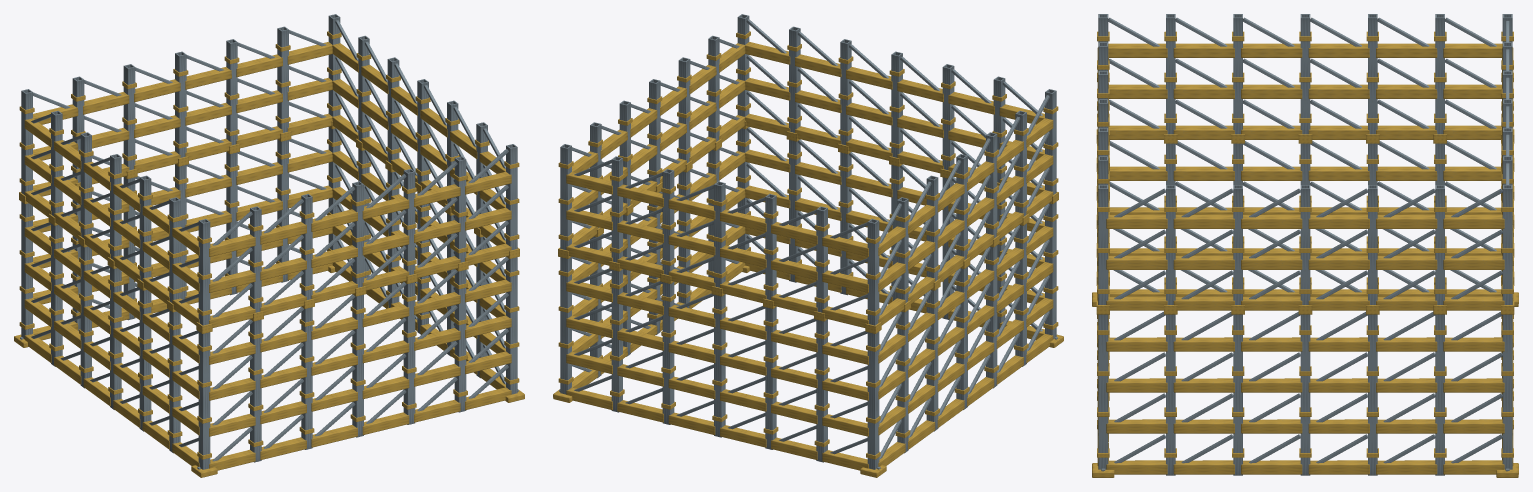
3 views of the same model, side by side, from view 1: azimuth 30°, elevation 25°; view 2: azimuth 150°, elevation 25°; view 3: azimuth 270°, elevation 25° (orthographic). The views are drawn at different scales.
Parts seen in each view (by area): view 1: Tier 0 side 0 post 0, Tier 0 side 0 post 4, Tier 0 side 0 post 5, Tier 0 side 0 post 1, Tier 0 side 1 post 0, Tier 0 side 0 post 2, Tier 0 side 0 post 3, Tier 0 side 3 post 4, Tier 1 side 0 post 0, Tier 0 side 3 post 0, Tier 0 side 3 post 3, Tier 0 side 3 post 2 (+90 smaller); view 2: Tier 0 side 3 post 0, Tier 0 side 2 post 2, Tier 0 side 2 post 5, Tier 0 side 2 post 0, Tier 0 side 2 post 4, Tier 0 side 2 post 3, Tier 0 side 2 post 1, Tier 1 side 3 post 0, Tier 0 side 3 post 2, Tier 0 side 0 post 0, Tier 0 side 3 post 4, Tier 1 side 2 post 2 (+90 smaller); view 3: Tier 0 side 1 post 0, Tier 0 side 2 post 0, Tier 0 side 1 post 3, Tier 0 side 1 post 1, Tier 0 side 1 post 5, Tier 0 side 1 post 2, Tier 0 side 1 post 4, Tier 1 side 1 post 0, Tier 1 side 2 post 0, Tier 1 side 3 post 3, Tier 1 side 1 post 3, Tier 1 side 3 post 1 (+73 smaller).
Boxes of the visible parts, x1,y1,x2,y2 form: Tier 0 side 0 post 0: (198, 332, 210, 469); Tier 0 side 0 post 4: (403, 282, 415, 424); Tier 0 side 0 post 5: (454, 270, 466, 412); Tier 0 side 0 post 1: (250, 319, 261, 462); Tier 0 side 1 post 0: (506, 257, 517, 394); Tier 0 side 0 post 2: (301, 307, 312, 449); Tier 0 side 0 post 3: (352, 294, 363, 437); Tier 0 side 3 post 4: (139, 288, 151, 431); Tier 1 side 0 post 0: (198, 219, 210, 325); Tier 0 side 3 post 0: (21, 202, 32, 338); Tier 0 side 3 post 3: (110, 267, 121, 409); Tier 0 side 3 post 2: (80, 245, 91, 388); Tier 0 side 3 post 0: (867, 331, 879, 469); Tier 0 side 2 post 2: (662, 282, 674, 424); Tier 0 side 2 post 5: (816, 319, 827, 462); Tier 0 side 2 post 0: (560, 257, 571, 394); Tier 0 side 2 post 4: (765, 307, 776, 449); Tier 0 side 2 post 3: (714, 294, 725, 437); Tier 0 side 2 post 1: (611, 269, 622, 412); Tier 1 side 3 post 0: (867, 219, 879, 325); Tier 0 side 3 post 2: (926, 288, 938, 431); Tier 0 side 0 post 0: (1045, 202, 1056, 338); Tier 0 side 3 post 4: (986, 245, 997, 388); Tier 1 side 2 post 2: (662, 169, 674, 275); Tier 0 side 1 post 0: (1098, 314, 1108, 469); Tier 0 side 2 post 0: (1502, 314, 1512, 469); Tier 0 side 1 post 3: (1300, 314, 1310, 475); Tier 0 side 1 post 1: (1166, 314, 1175, 475); Tier 0 side 1 post 5: (1435, 314, 1444, 475); Tier 0 side 1 post 2: (1233, 314, 1242, 475); Tier 0 side 1 post 4: (1368, 314, 1377, 475); Tier 1 side 1 post 0: (1098, 185, 1108, 304); Tier 1 side 2 post 0: (1502, 185, 1512, 304); Tier 1 side 3 post 3: (1300, 14, 1310, 134); Tier 1 side 1 post 3: (1300, 185, 1310, 304); Tier 1 side 3 post 1: (1435, 14, 1444, 134).
Bounding box in the file's own units: 2.85 × 2.11 × 2.85.
Materials: 2 (2 with a texture image).
